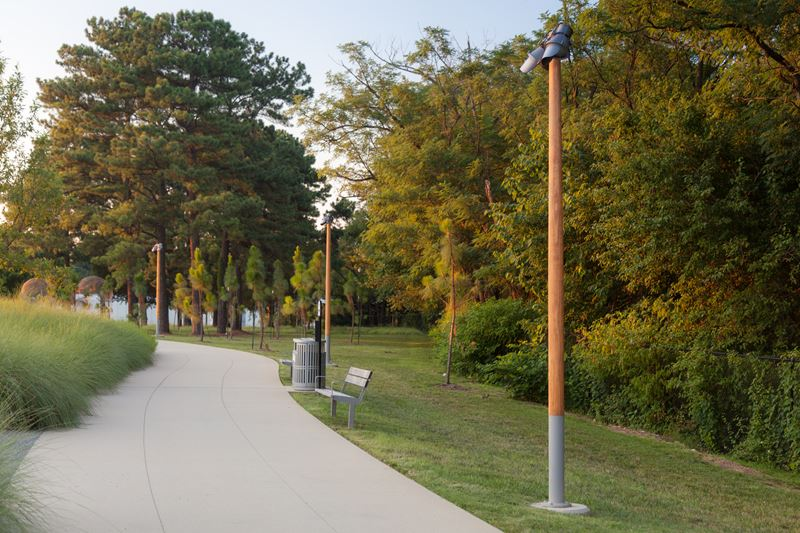light_pole: (532, 38, 576, 520), (318, 210, 336, 384)
